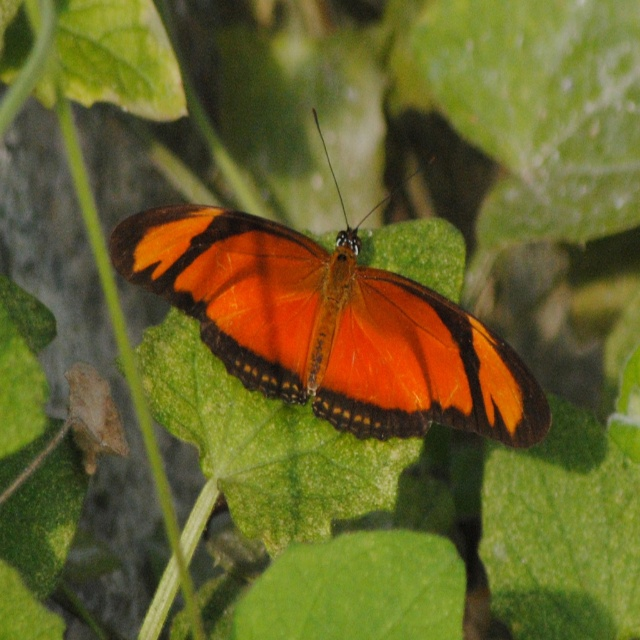Butterfly: (126, 119, 525, 474)
